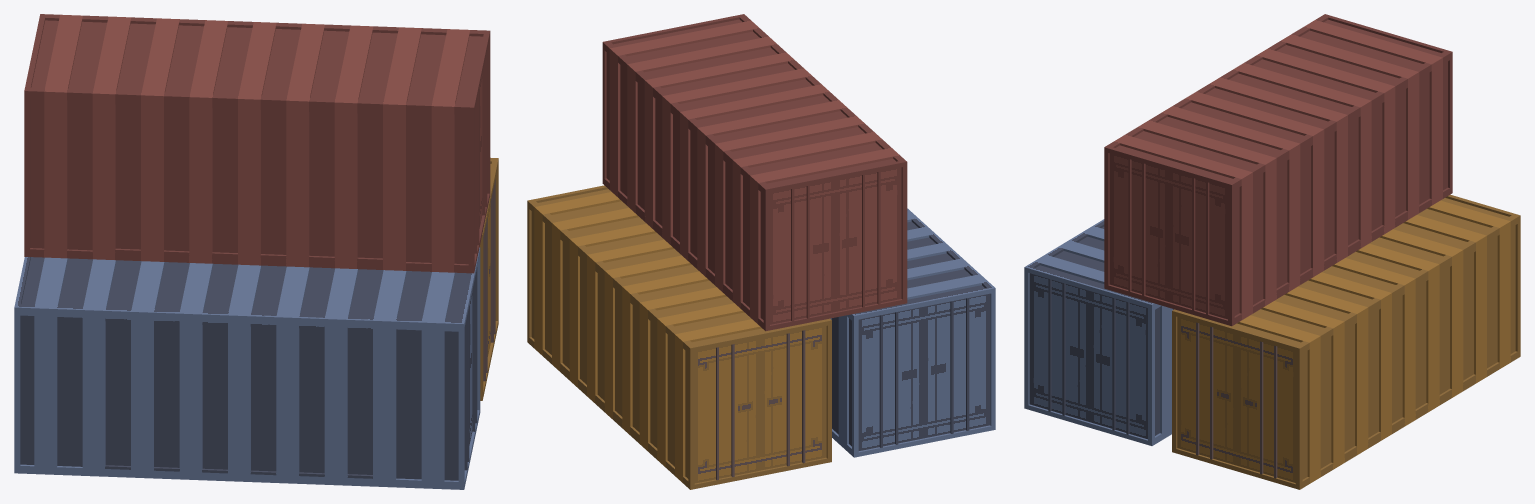
File: vox_cabin_stack.glb
The picture shows the model from 3 angles, left to right: view 1: azimuth 30°, elevation 25°; view 2: azimuth 150°, elevation 25°; view 3: azimuth 270°, elevation 25°; orthographic projection. The views are drawn at different scales.
Visible parts, largest first — view 1: Object_95, Object_98, Object_101; view 2: Object_95, Object_101, Object_98; view 3: Object_95, Object_101, Object_98.
Part boxes in pixels (box(x1,y1,x2,y2)): Object_95: box(24, 14, 490, 273); Object_98: box(14, 247, 480, 489); Object_101: box(479, 157, 498, 400); Object_95: box(602, 14, 907, 331); Object_101: box(527, 185, 831, 489); Object_98: box(830, 208, 995, 457); Object_95: box(1104, 14, 1452, 326); Object_101: box(1172, 194, 1520, 489); Object_98: box(1024, 219, 1173, 445).
Size of the model in its own units: 8.41 by 5.2 by 8.21.
Materials: 3 (3 with a texture image).
